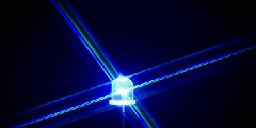LED: (104, 68, 146, 126)
